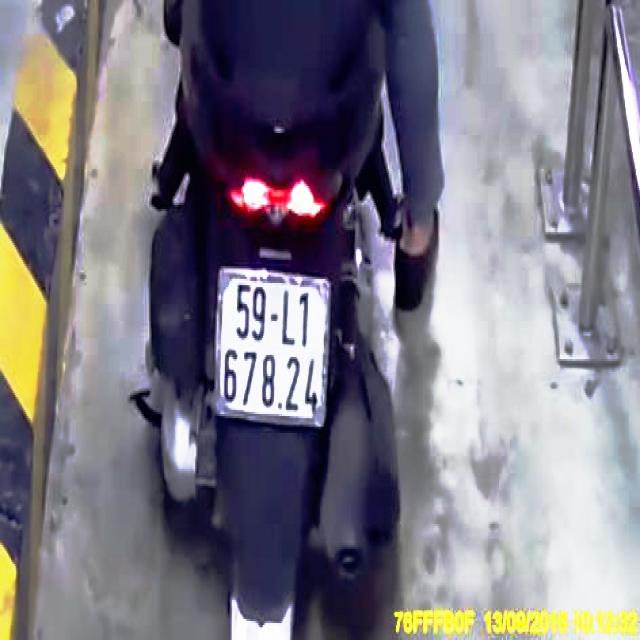license_plate: (213, 266, 327, 430)
